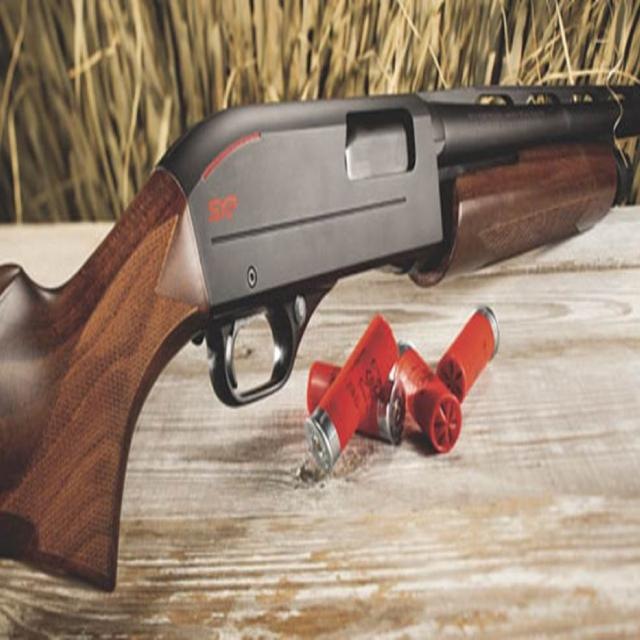ShotGun: (0, 85, 640, 594)
